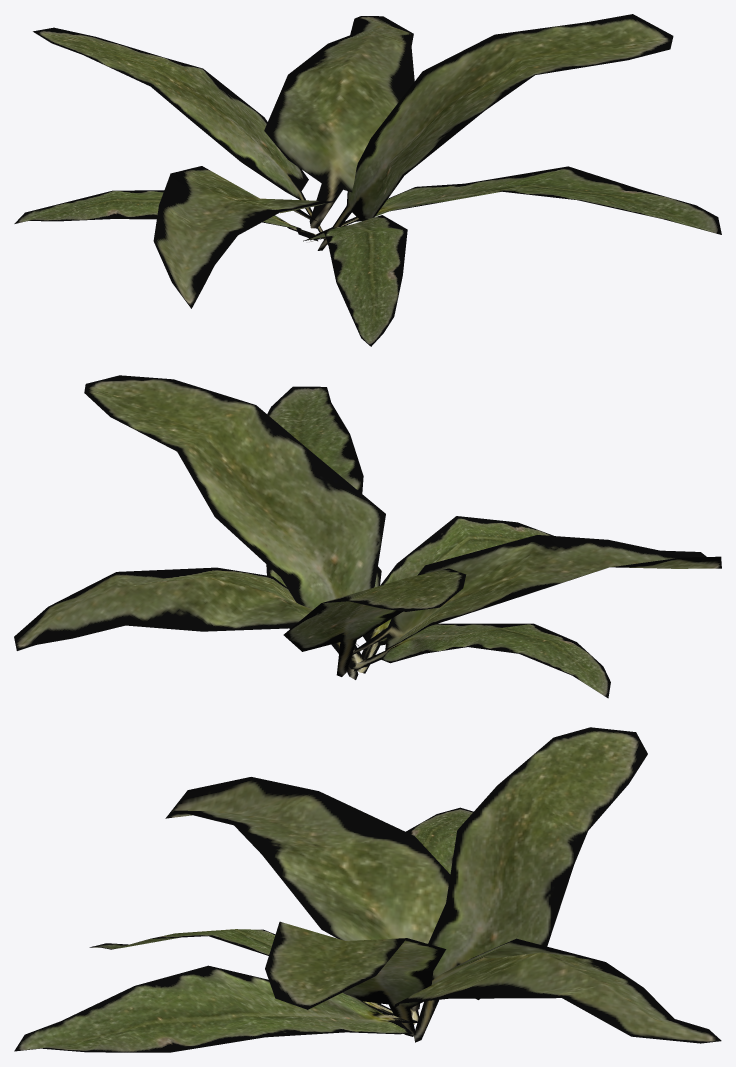
File: nama_gazania_a.glb
3 renders of one model, top to bottom at view 1: azimuth 30°, elevation 25°; view 2: azimuth 150°, elevation 25°; view 3: azimuth 270°, elevation 25°, orthographic. The views are drawn at different scales.
Visible parts, largest first — view 1: nama_gazania_a; view 2: nama_gazania_a; view 3: nama_gazania_a.
Boxes of the visible parts, left/top/right/bottom form: nama_gazania_a: left=14, top=14, right=721, bottom=346; nama_gazania_a: left=14, top=375, right=721, bottom=698; nama_gazania_a: left=14, top=727, right=721, bottom=1052.
Size of the model in its own units: 0.4147 by 0.1316 by 0.4.
Materials: 1 (1 with a texture image).
